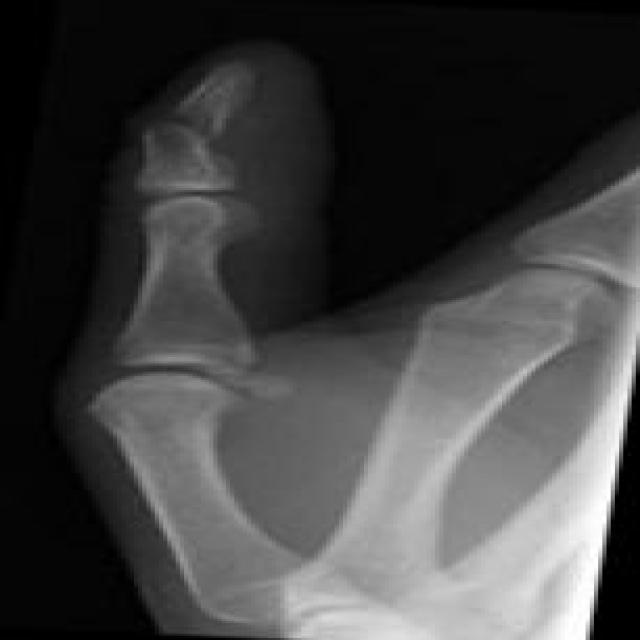Transverse Displaced: (112, 95, 263, 159)
